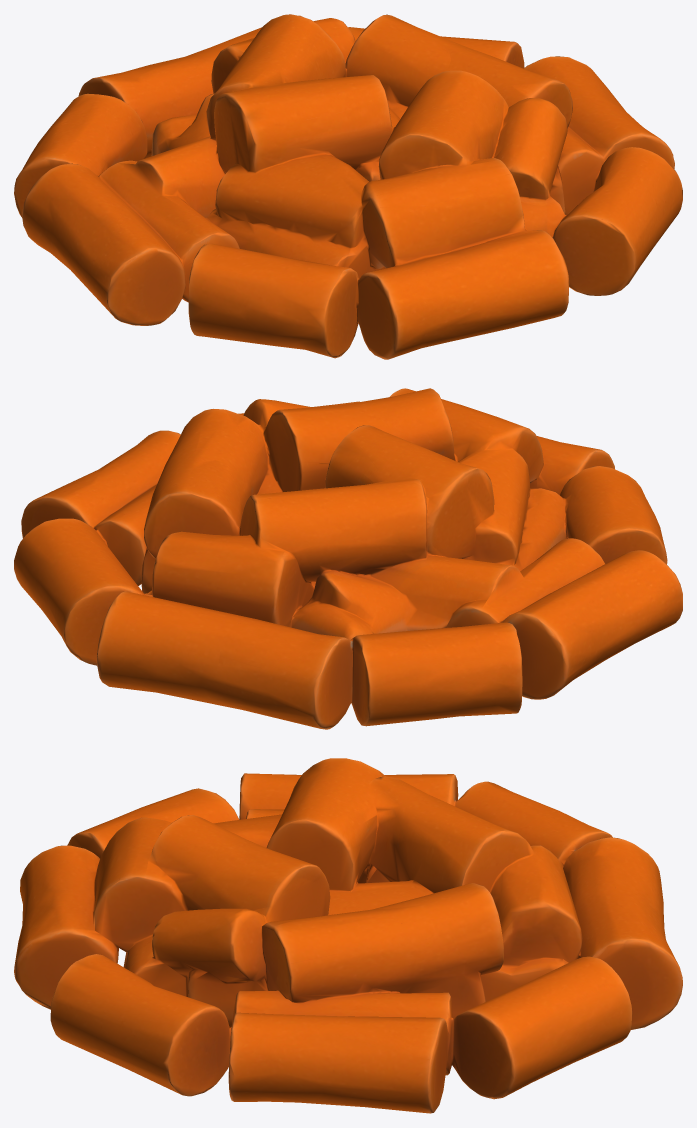
Rendered from Zanahoria_Cocida.fbx.
3 renders of one model, top to bottom at view 1: azimuth 30°, elevation 25°; view 2: azimuth 150°, elevation 25°; view 3: azimuth 270°, elevation 25°, orthographic. The views are drawn at different scales.
Parts seen in each view (by area): view 1: Mesh_0; view 2: Mesh_0; view 3: Mesh_0.
Part boxes in pixels (box(x1,y1,x2,y2)): Mesh_0: box(14, 14, 682, 359); Mesh_0: box(14, 388, 682, 729); Mesh_0: box(14, 758, 682, 1113).
Size of the model in its own units: 183 by 50.13 by 178.
1 material, 1 textured.
